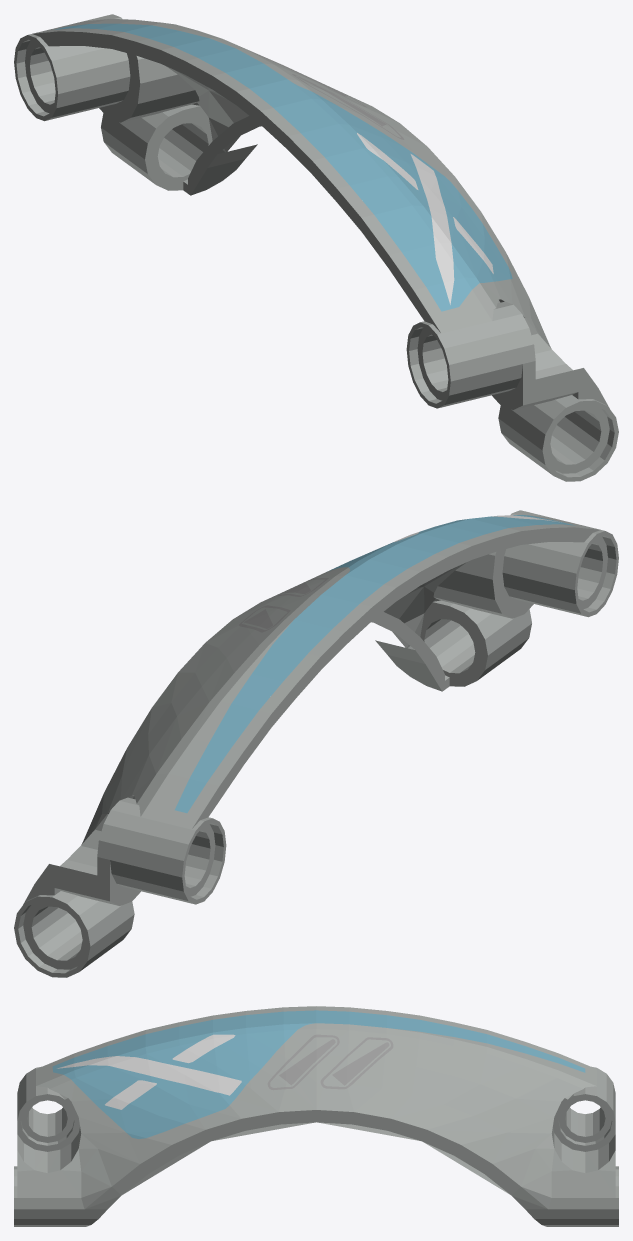
The picture shows the model from 3 angles, top to bottom: view 1: azimuth 30°, elevation 25°; view 2: azimuth 150°, elevation 25°; view 3: azimuth 270°, elevation 25°; orthographic projection. The views are drawn at different scales.
Parts seen in each view (by area): view 1: world; view 2: world; view 3: world.
Boxes of the visible parts, left/top/right/bottom form: world: left=14, top=14, right=618, bottom=481; world: left=14, top=510, right=618, bottom=977; world: left=14, top=1006, right=618, bottom=1226.
Bounding box in the file's own units: 0.0158 × 0.0232 × 0.072.
